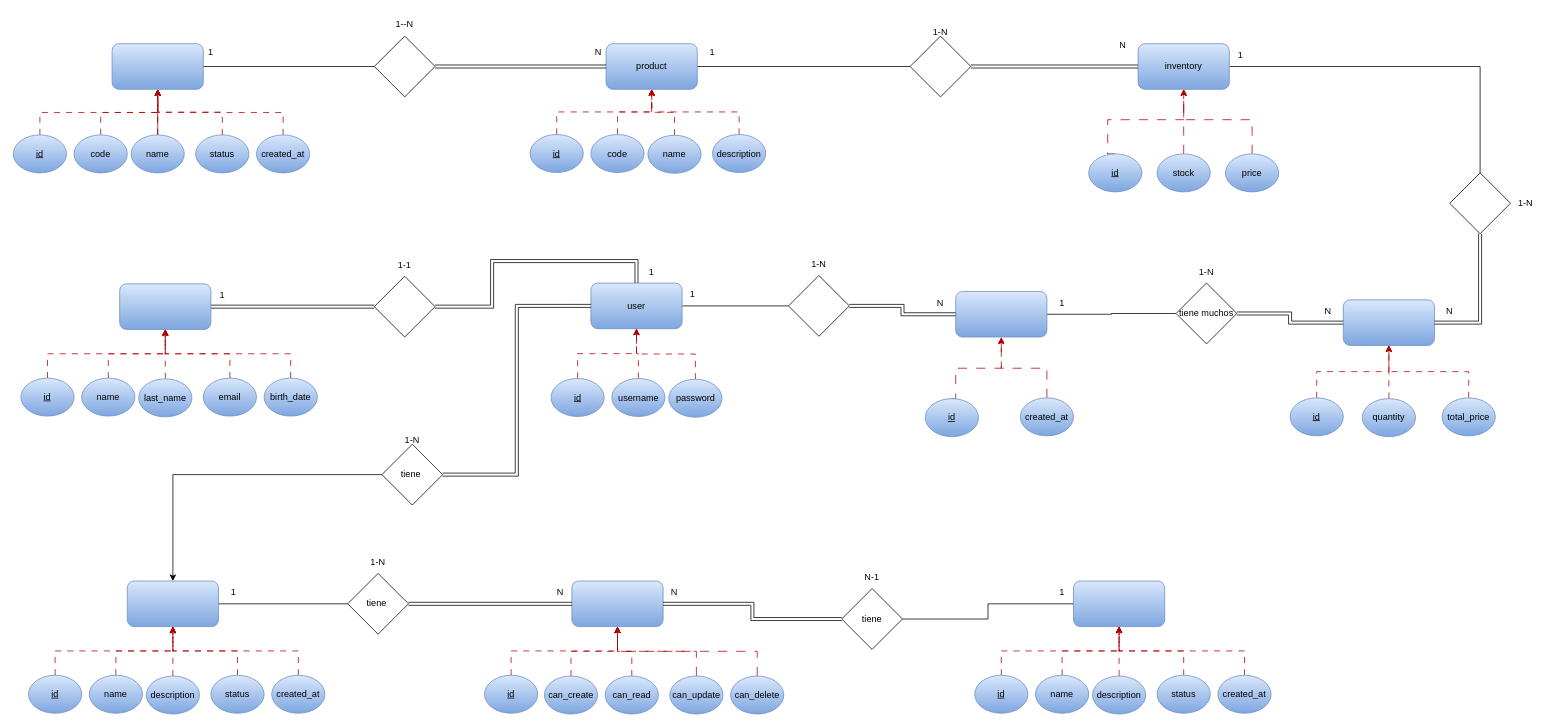
Some shapes in this 1562 by 727 pixel diagram are drawn without their labels. Here are the shapes that lost their labels. From the top down, the centre of each, then its label:
At (x=157, y=66): "category".
At (x=404, y=66): "pertenece".
At (x=940, y=66): "puede".
At (x=1479, y=203): "puede estar".
At (x=165, y=306): "person".
At (x=404, y=306): "tiene un".
At (x=818, y=305): "puede tener".
At (x=1001, y=314): "shopping_cart".
At (x=1388, y=322): "shopping_cart_item".
At (x=172, y=603): "role".
At (x=617, y=603): "role_permission".
At (x=1119, y=603): "module".
